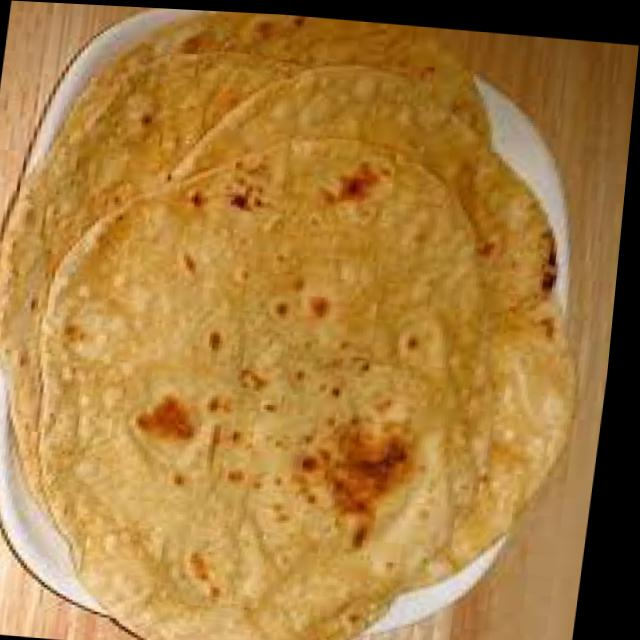CHAPATHI: (0, 11, 576, 640)
